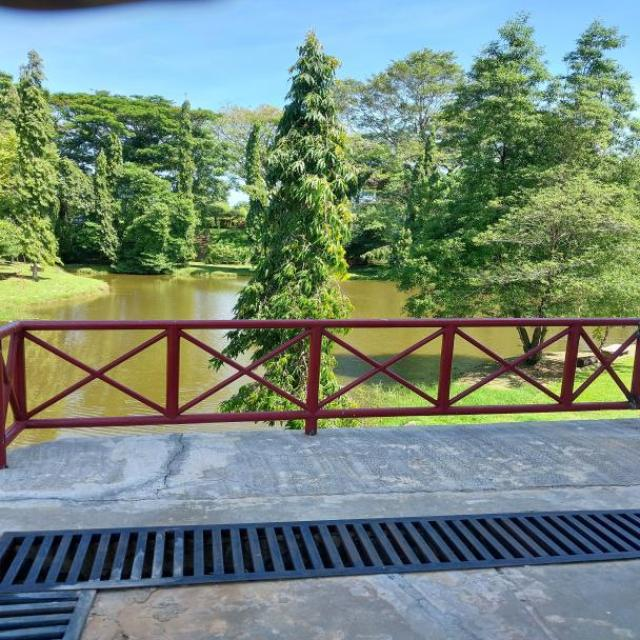barrier ahead at: (11, 323, 631, 412)
